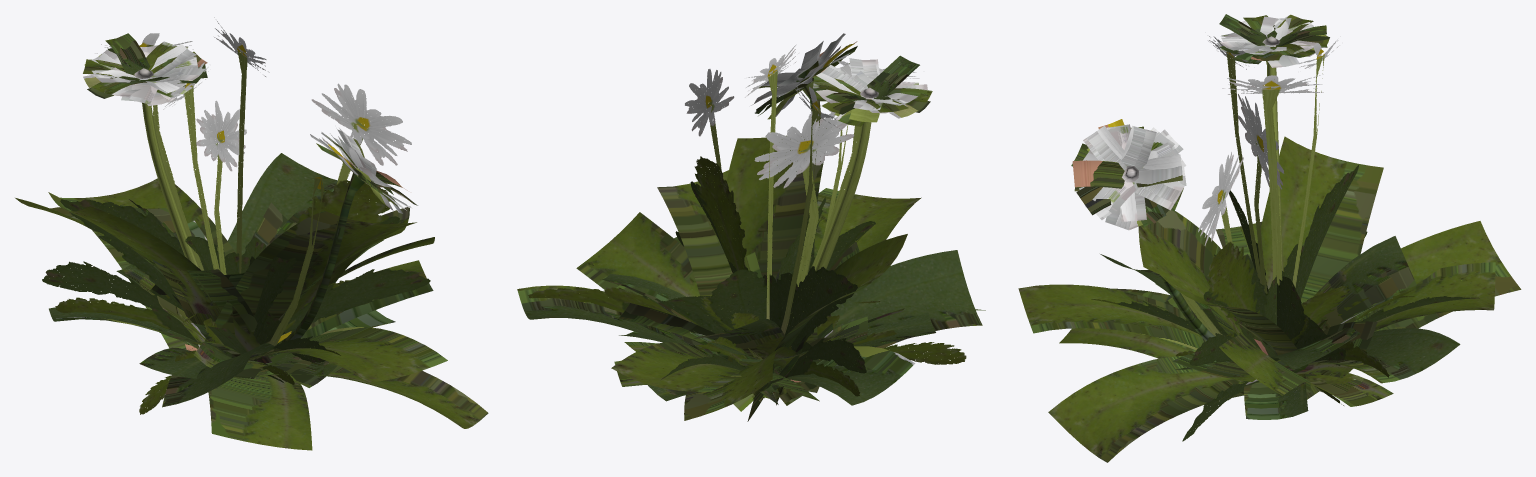
Rendered from PW_Daisy_2.fbx.
The picture shows the model from 3 angles, left to right: view 1: azimuth 30°, elevation 25°; view 2: azimuth 150°, elevation 25°; view 3: azimuth 270°, elevation 25°; orthographic projection. The views are drawn at different scales.
Visible parts, largest first — view 1: LOD0, Billboard; view 2: LOD0, Billboard; view 3: LOD0, Billboard.
Part boxes in pixels (bbox=[...]): LOD0: bbox=[15, 33, 488, 450]; Billboard: bbox=[42, 17, 430, 414]; LOD0: bbox=[517, 33, 985, 421]; Billboard: bbox=[528, 44, 966, 396]; LOD0: bbox=[1018, 14, 1521, 462]; Billboard: bbox=[1091, 36, 1479, 441].
Size of what is drawn, in the model's own units: 5.66 by 5.26 by 7.38.
